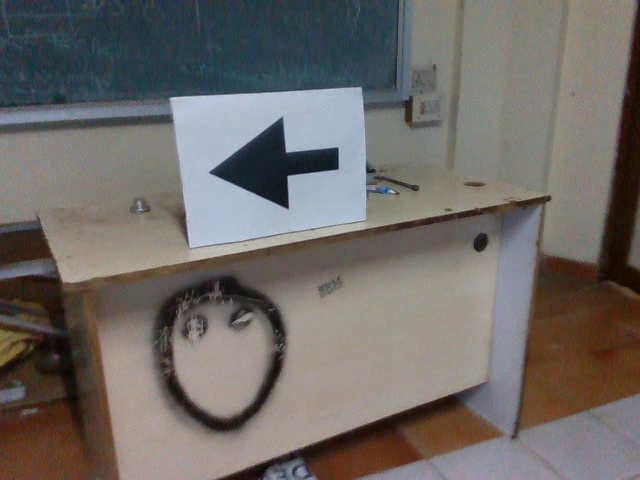Left: (207, 114, 349, 212)
